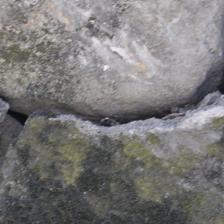Crack: (19, 75, 219, 144)
